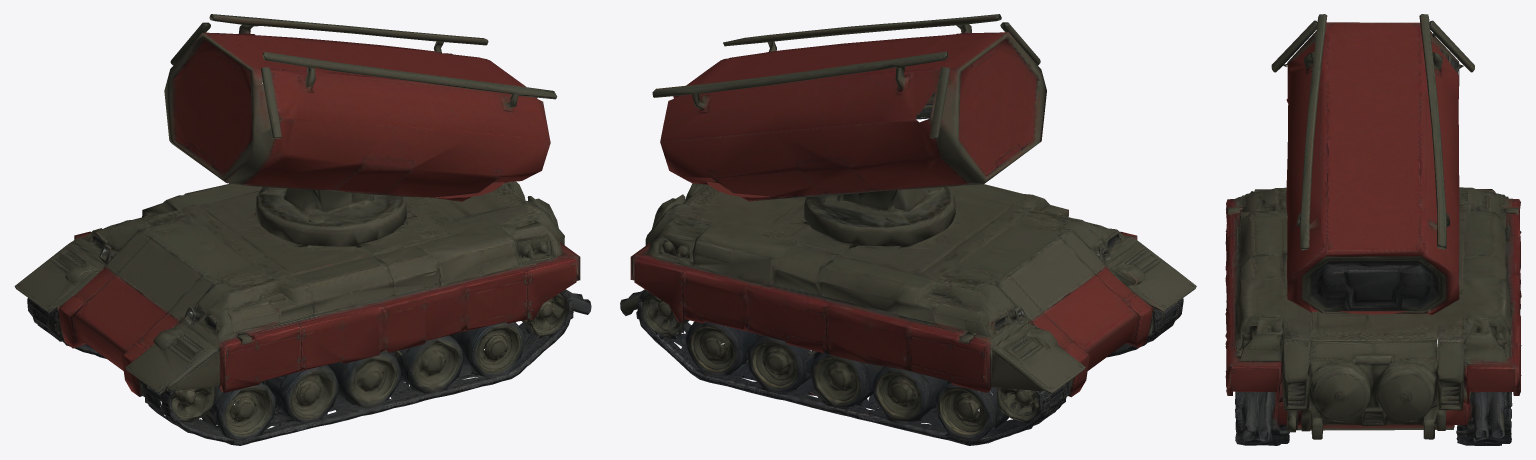
Rendered from v4-rocket-launcher.glb.
3 views of the same model, side by side, from view 1: azimuth 30°, elevation 25°; view 2: azimuth 150°, elevation 25°; view 3: azimuth 270°, elevation 25° (orthographic). The views are drawn at different scales.
Parts seen in each view (by area): view 1: Hull, Launcher; view 2: Hull, Launcher; view 3: Hull, Launcher.
Boxes of the visible parts, x1=… form: Hull: x1=14, y1=181, x2=591, y2=445; Launcher: x1=164, y1=14, x2=557, y2=215; Hull: x1=620, y1=181, x2=1196, y2=445; Launcher: x1=652, y1=14, x2=1046, y2=214; Hull: x1=1225, y1=187, x2=1521, y2=445; Launcher: x1=1271, y1=14, x2=1474, y2=312.
Bounding box in the file's own units: 2 × 1.47 × 1.18.
Materials: 1 (1 with a texture image).
